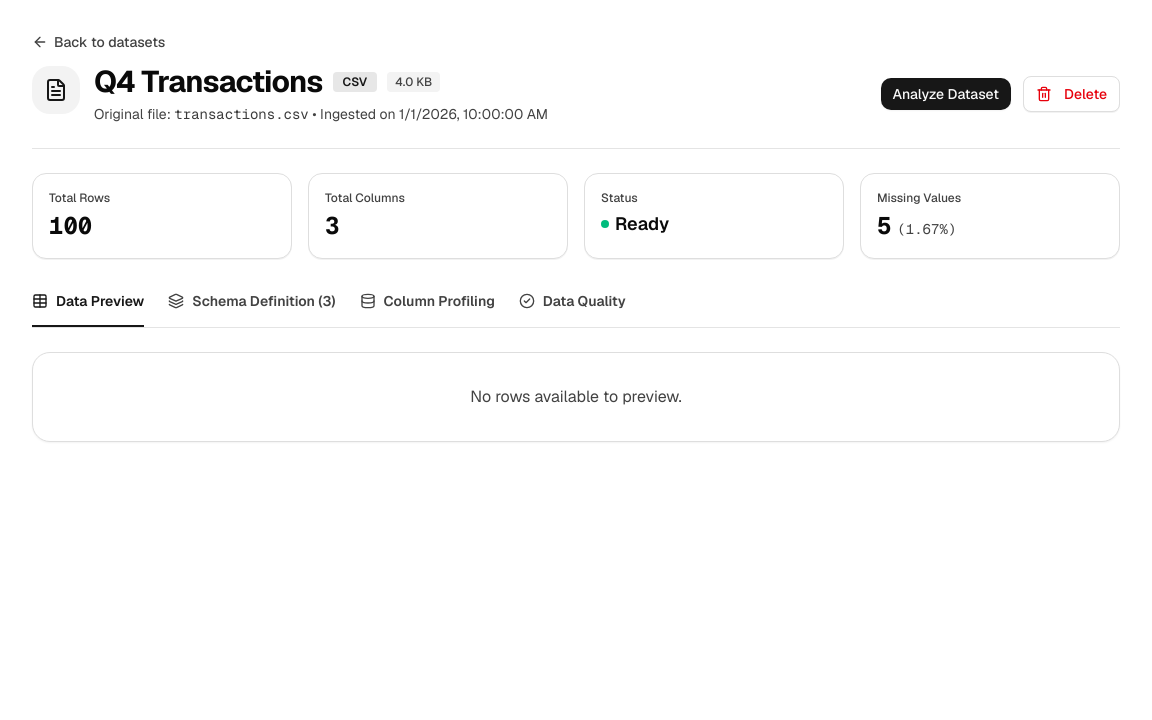
Test: M2 Dataset Experience › DatasetDetailPage › displays actionable per-column missing values breakdown in Quality tab
The image size is (1152, 720).
Expected: the heading "Q4 Transactions" is shown, [94,64,322,100]
What coordinates should you click on to do the following:
click the button "Data Quality"
I would click on:
 (572, 309)
Its box is [519,291,626,327].
(page scrolled)
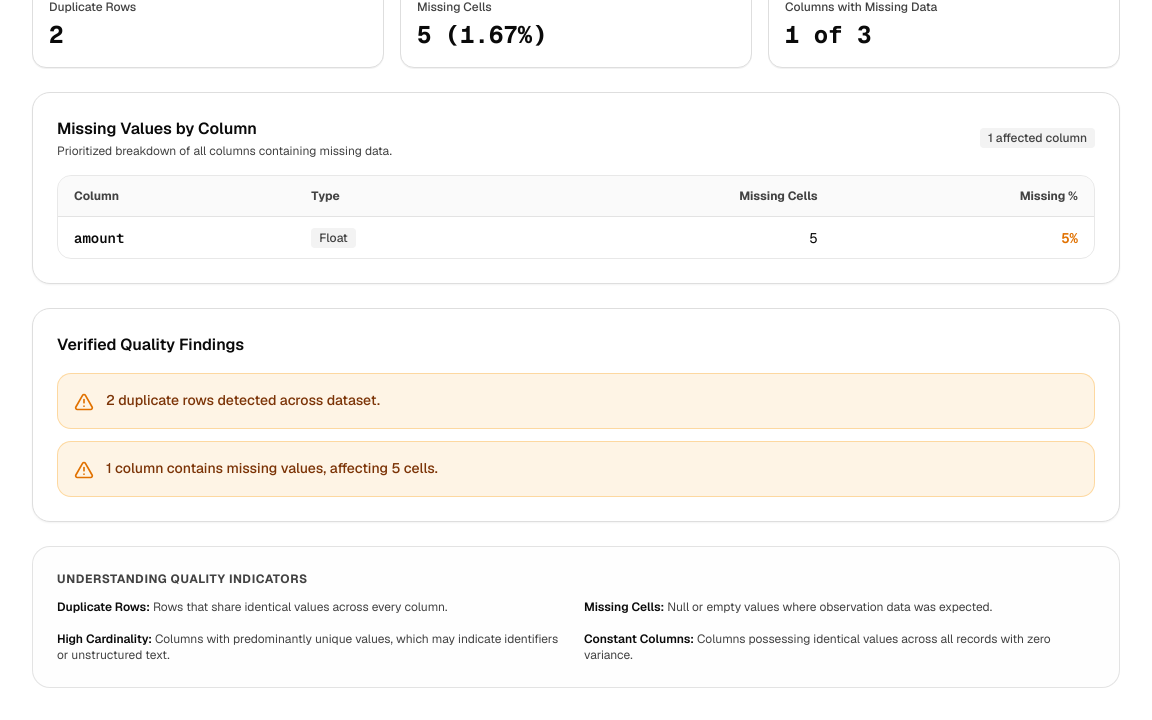
Expected: the heading "Missing Values by Column" is shown, [57,118,257,139]
Expected: the text "amount" is shown, [58,216,295,258]
Expected: the text "5%" is shown, [834,216,1094,258]
